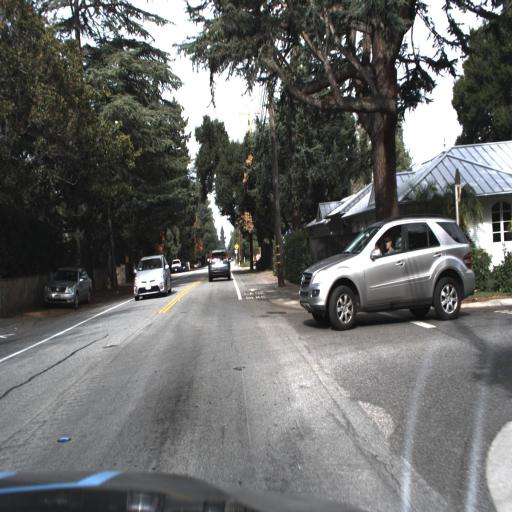car: (297, 218, 479, 334), (39, 262, 99, 312), (42, 261, 92, 306), (132, 251, 171, 300), (205, 254, 229, 291)
